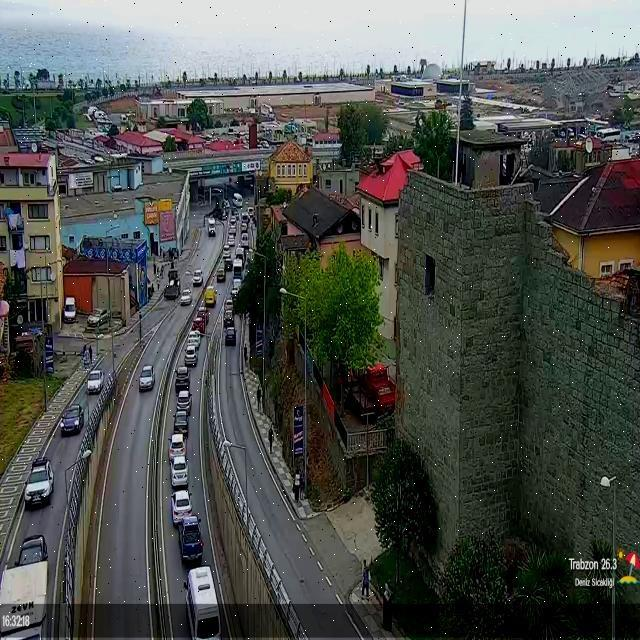Car: (23, 458, 55, 508), (177, 516, 205, 565), (58, 402, 86, 436), (170, 490, 193, 526), (170, 453, 190, 486), (168, 432, 186, 460), (86, 368, 105, 394), (86, 307, 109, 328), (138, 365, 156, 391), (173, 410, 190, 436), (176, 391, 192, 415), (175, 372, 190, 396), (164, 280, 180, 300), (187, 331, 201, 351), (192, 314, 206, 334), (184, 347, 197, 367), (204, 286, 217, 306), (225, 328, 236, 346), (232, 257, 243, 275), (180, 290, 192, 306), (192, 270, 203, 286), (216, 266, 226, 282), (232, 278, 242, 294), (224, 297, 234, 313), (223, 256, 233, 271), (224, 309, 233, 324), (198, 302, 206, 318), (240, 232, 249, 246), (228, 222, 237, 236), (235, 246, 244, 260), (223, 246, 231, 261), (231, 286, 239, 300), (229, 214, 237, 226), (241, 212, 249, 223), (241, 220, 248, 232), (247, 206, 254, 218), (228, 231, 235, 243), (221, 209, 227, 220)
Truck: (185, 566, 221, 636), (207, 218, 216, 236)
Van: (63, 296, 77, 322), (233, 193, 243, 208)
